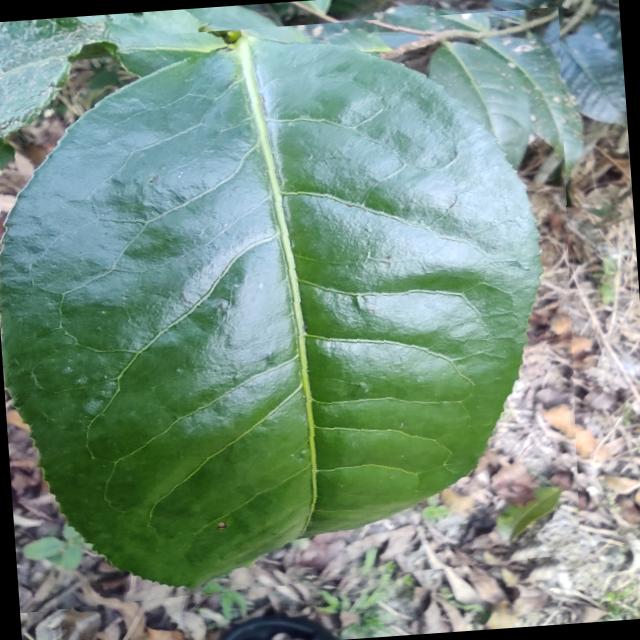Category D(7+ days, Not for Tea): (0, 6, 598, 613)
